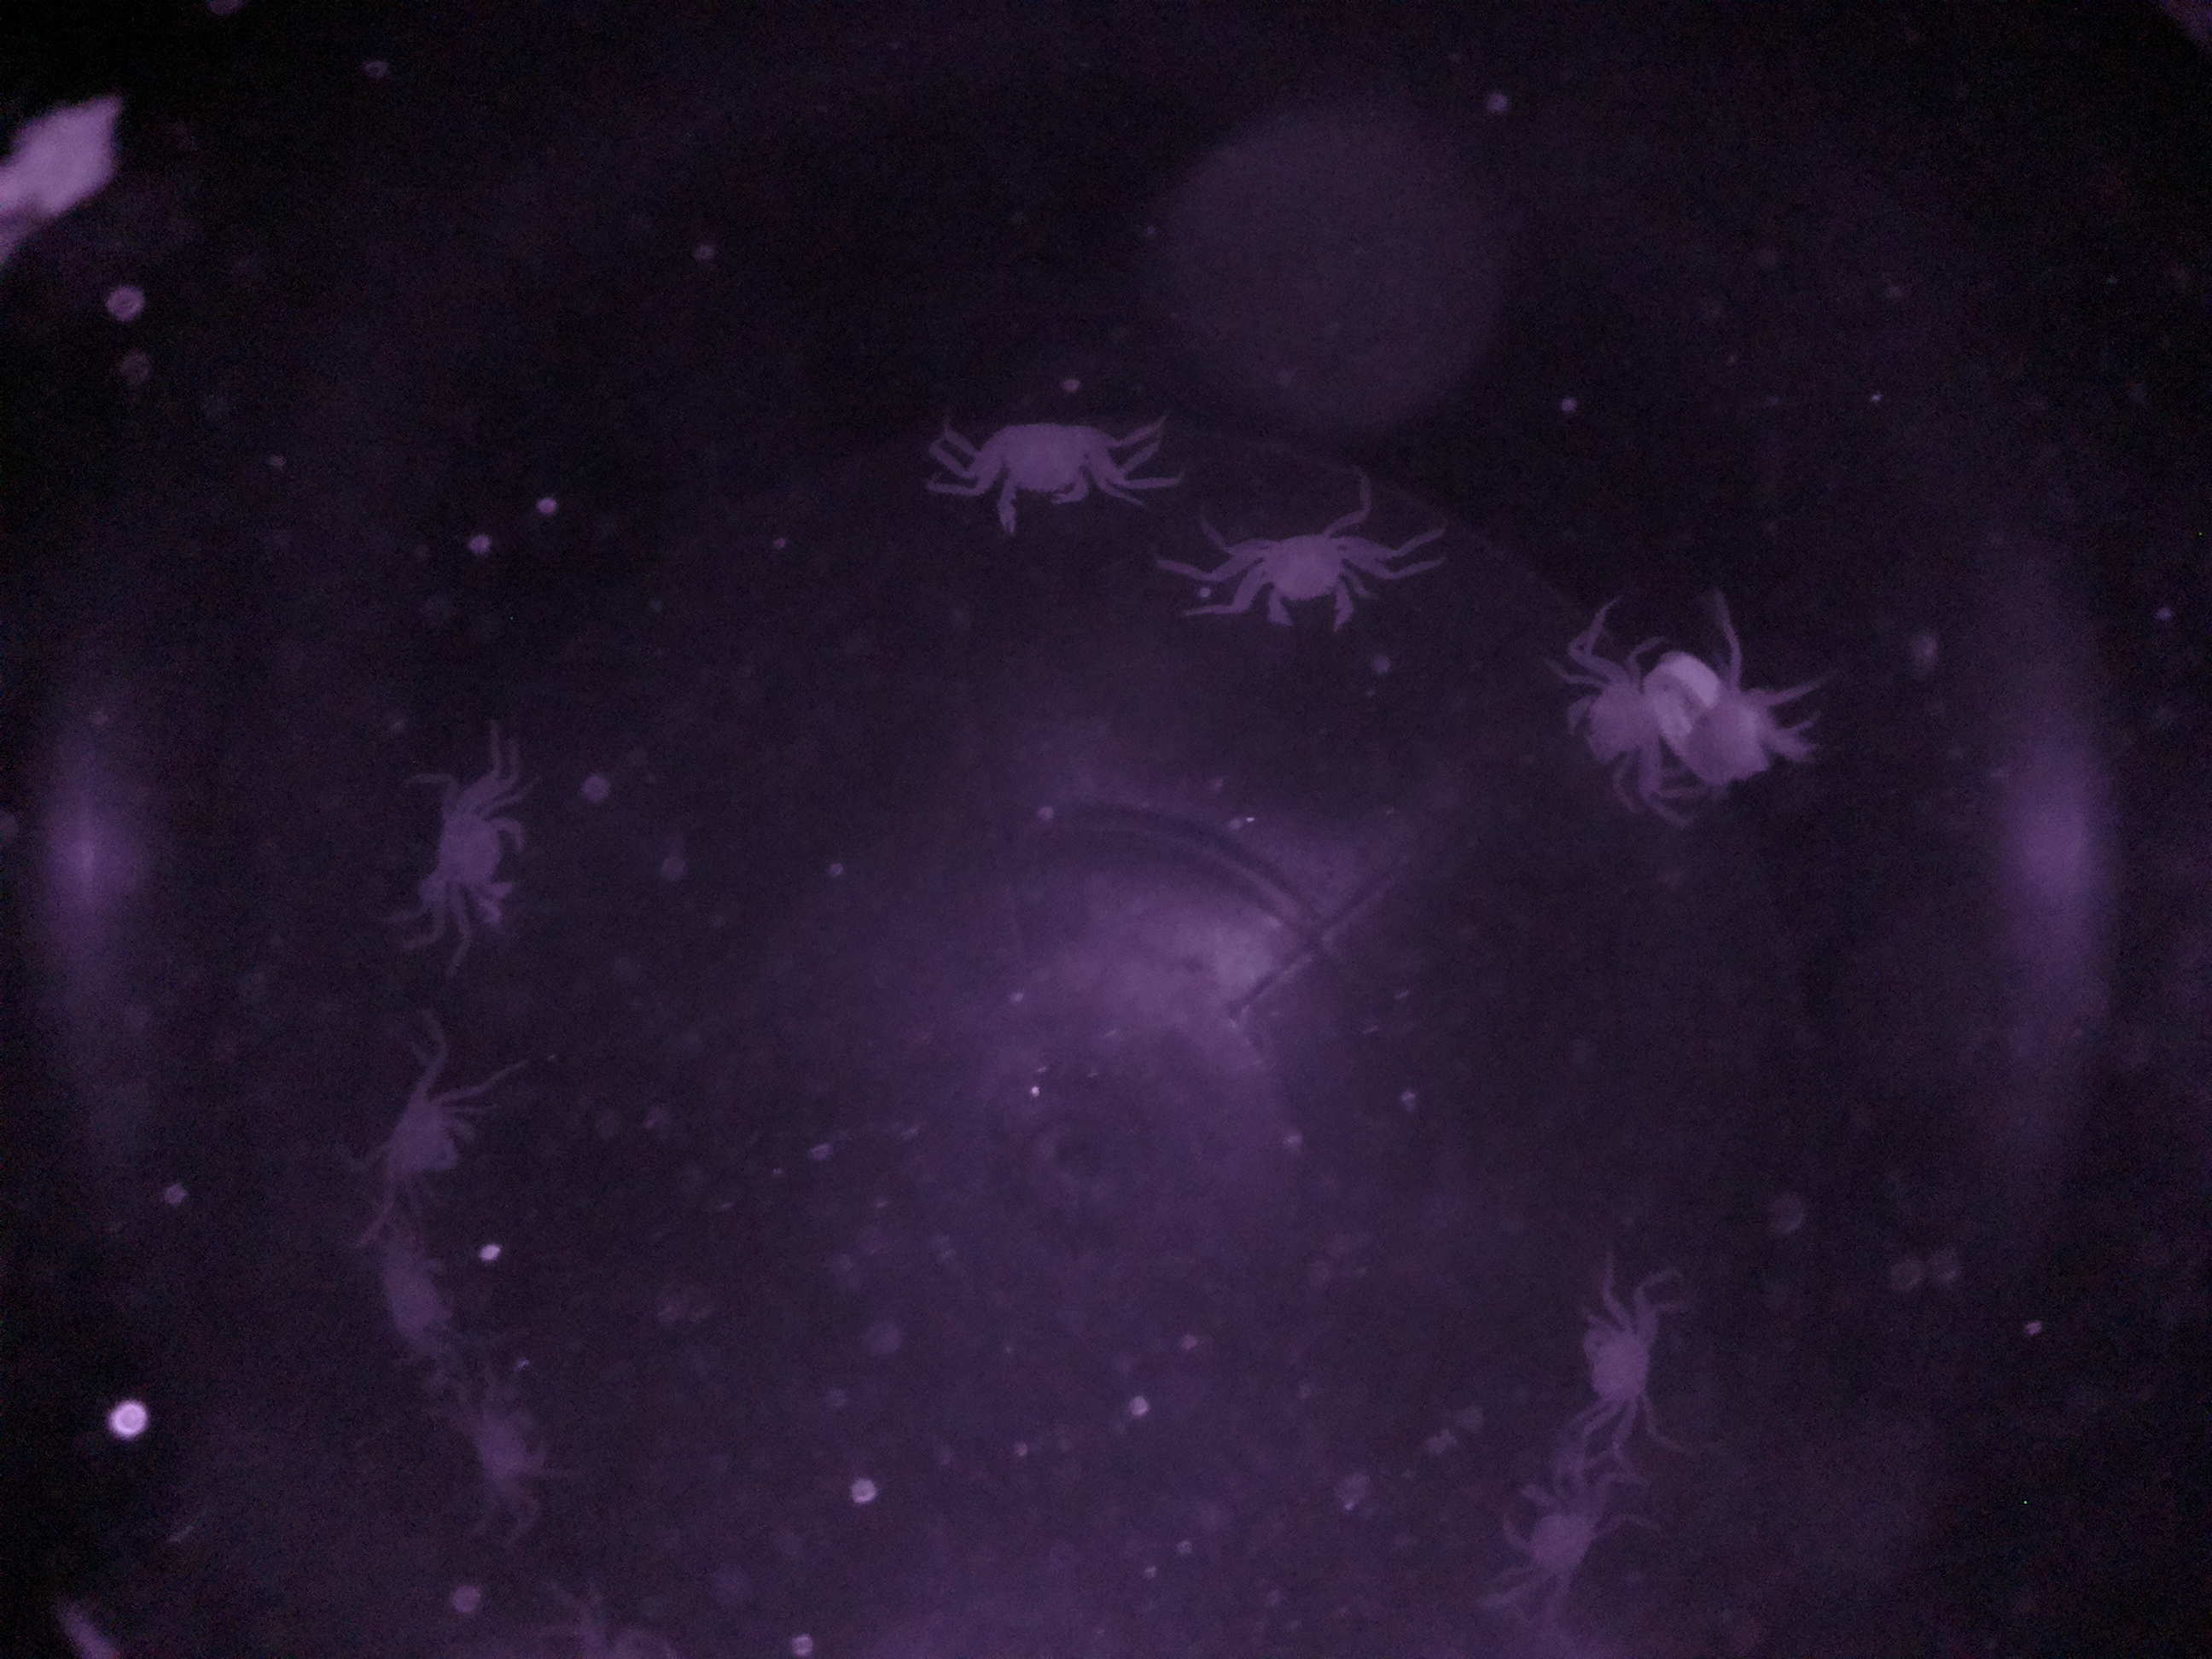Crab: (941, 383, 1141, 537), (404, 755, 568, 936), (1547, 626, 1696, 807), (1212, 502, 1395, 643), (1559, 1270, 1695, 1445)
